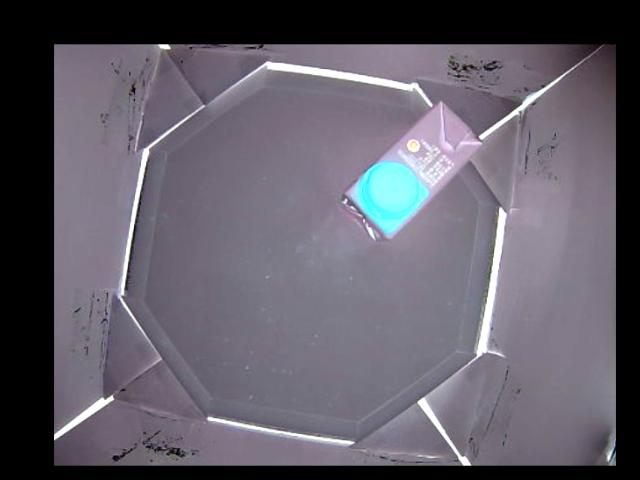Bottle: (340, 98, 480, 244)
